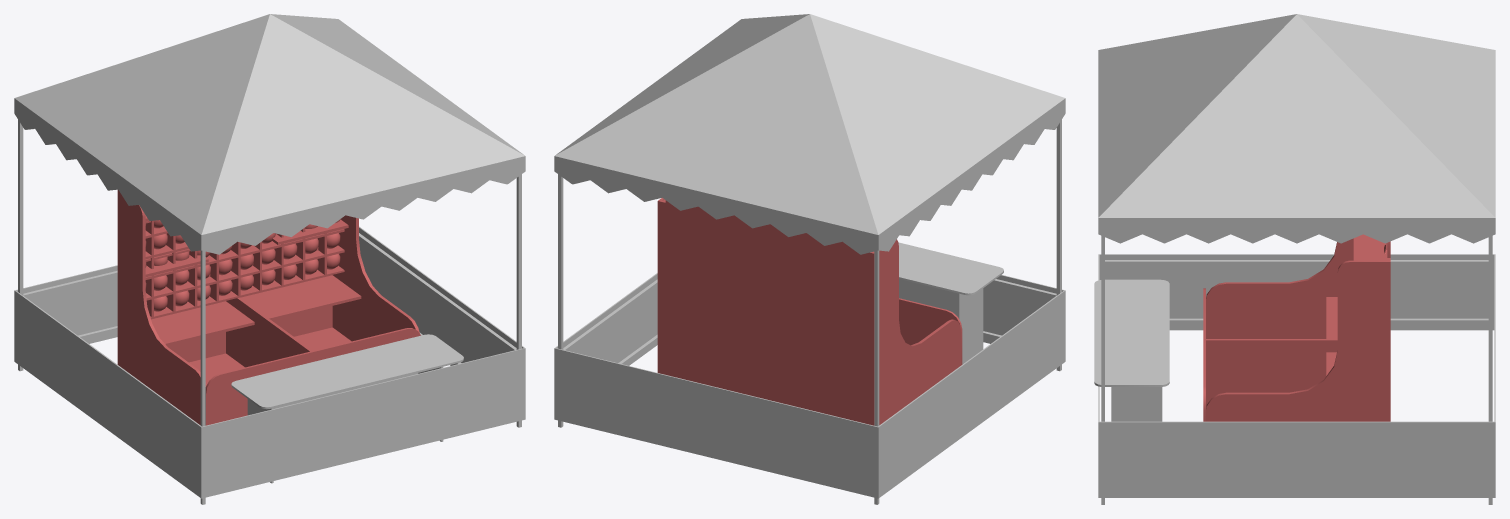
File: Arcades.fbx
3 renders of one model, left to right at view 1: azimuth 30°, elevation 25°; view 2: azimuth 150°, elevation 25°; view 3: azimuth 270°, elevation 25°, orthographic. The views are drawn at different scales.
Visible parts, largest first — view 1: Tent, Arcade_2, Arcade_1; view 2: Tent, Arcade_2; view 3: Tent, Arcade_2, Arcade_1.
Boxes of the visible parts, x1,y1,x2,y2 form: Tent: (14,14,525,504); Arcade_2: (117,190,420,425); Arcade_1: (145,215,361,367); Tent: (554,14,1065,504); Arcade_2: (657,198,962,425); Tent: (1094,14,1495,504); Arcade_2: (1203,234,1390,421); Arcade_1: (1206,235,1361,407).
Size of the model in its own units: 300 by 348 by 303.
